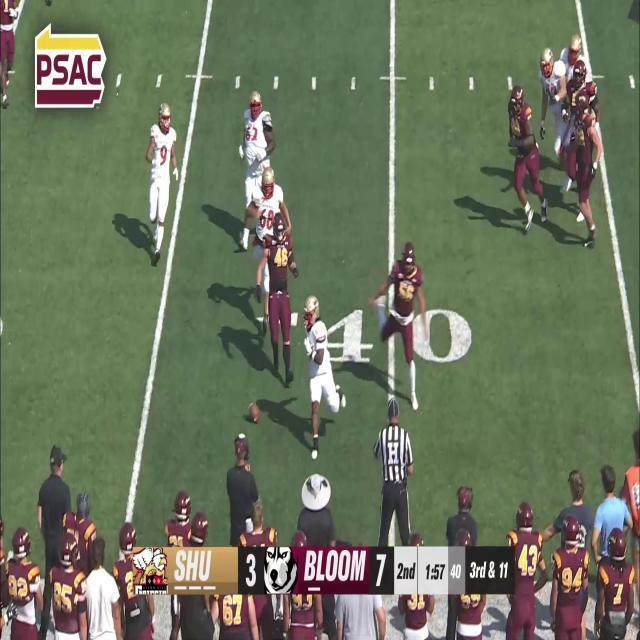football: (248, 401, 260, 424)
